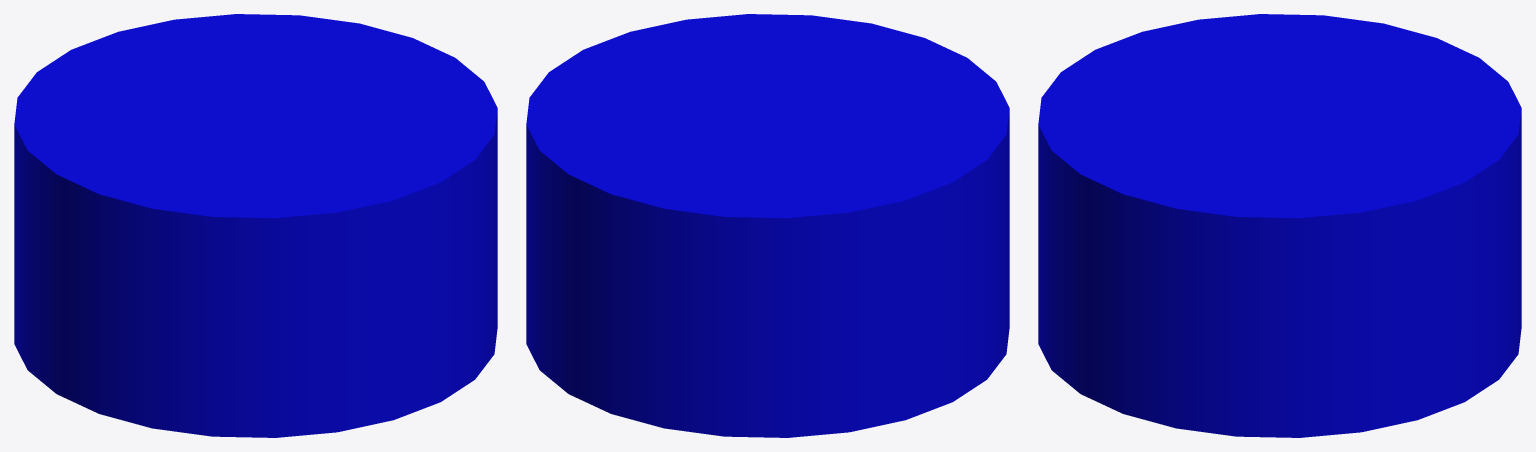
Rendered from NagaiIndustryHighSchppl.glb.
The picture shows the model from 3 angles, left to right: view 1: azimuth 30°, elevation 25°; view 2: azimuth 150°, elevation 25°; view 3: azimuth 270°, elevation 25°; orthographic projection.
Visible parts, largest first — view 1: Geom3D; view 2: Geom3D; view 3: Geom3D.
Boxes of the visible parts, box(x1,y1,x2,y2) form: Geom3D: box(14, 14, 497, 437); Geom3D: box(526, 14, 1009, 437); Geom3D: box(1038, 14, 1521, 437).
Size of the model in its own units: 1.99 by 1 by 1.99.
